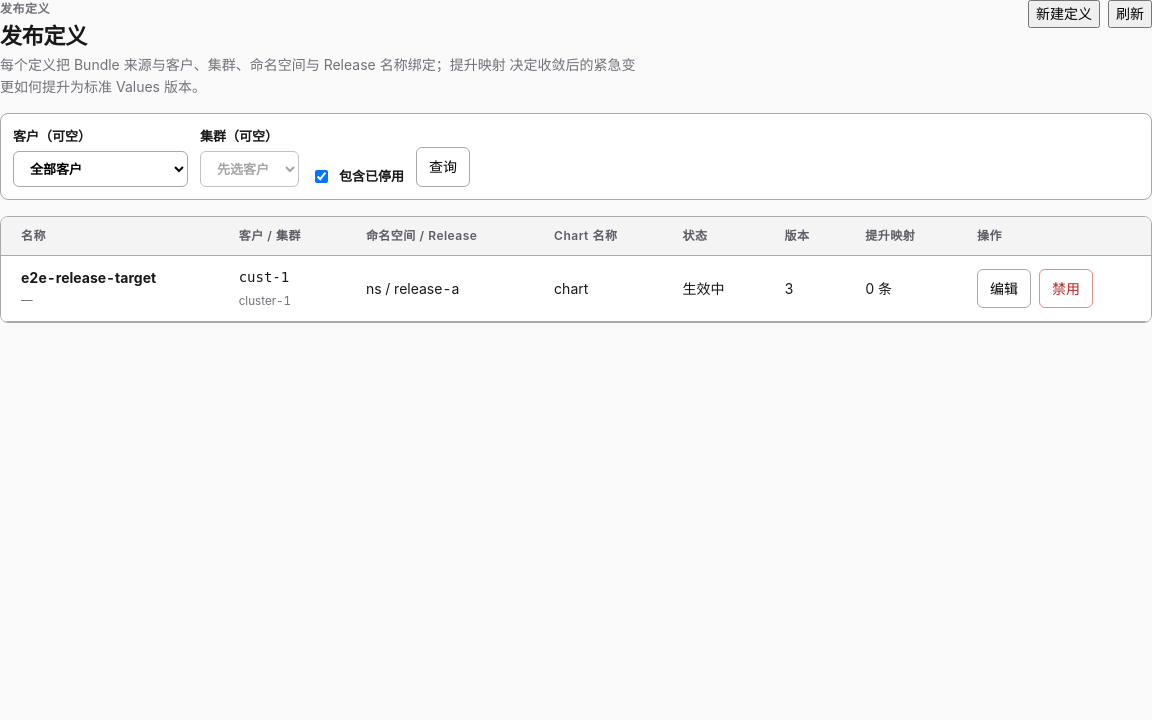
Test: DefinitionsPage › refuses to submit a mapping with missing required fields
Click the button with test id "definition-edit-def-1" at (1004, 288), box x1=977 y1=268 x2=1031 y2=308
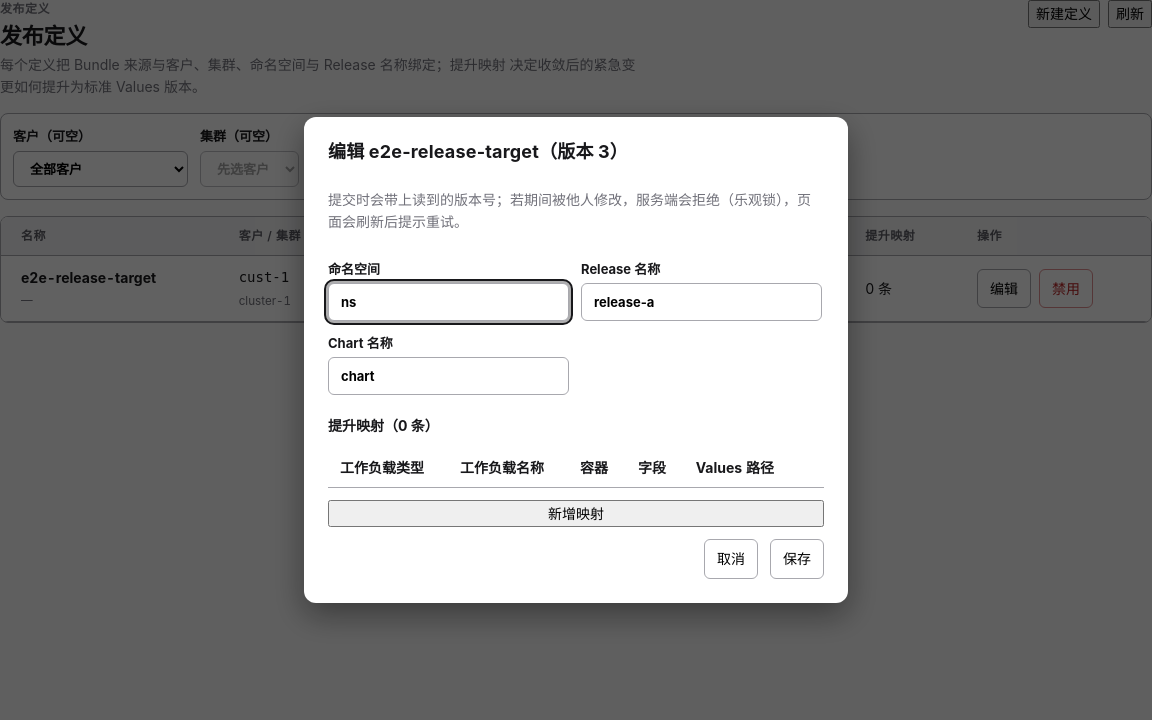
Click the button "新增映射" at (576, 514), box x1=328 y1=500 x2=824 y2=527
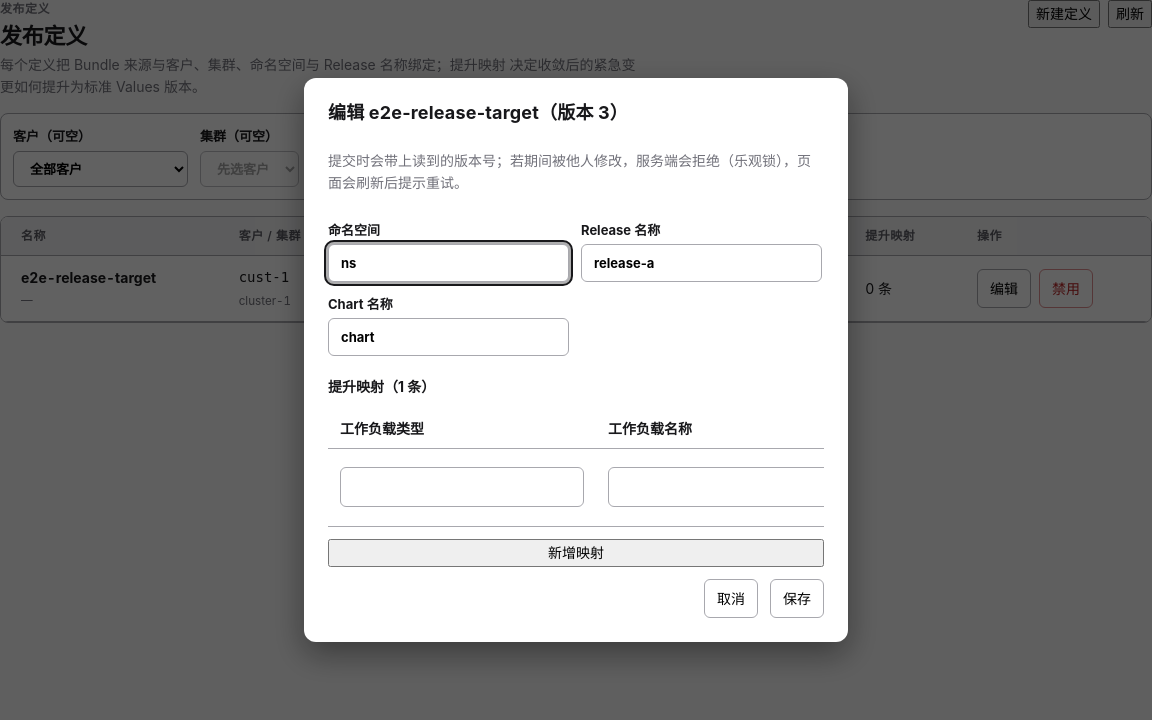
Submit the form, box x1=328 y1=220 x2=824 y2=618
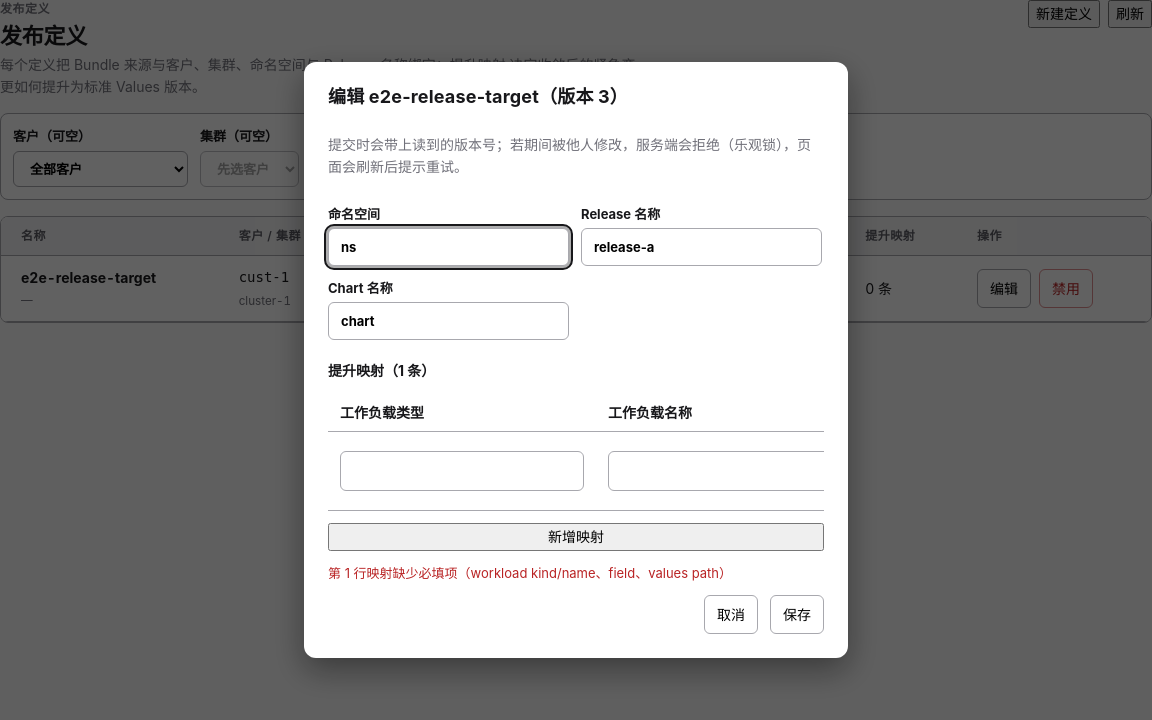
Now the message with test id "definitions-validation" shows "第 1 行映射缺少必填项", box x1=328 y1=564 x2=732 y2=580
